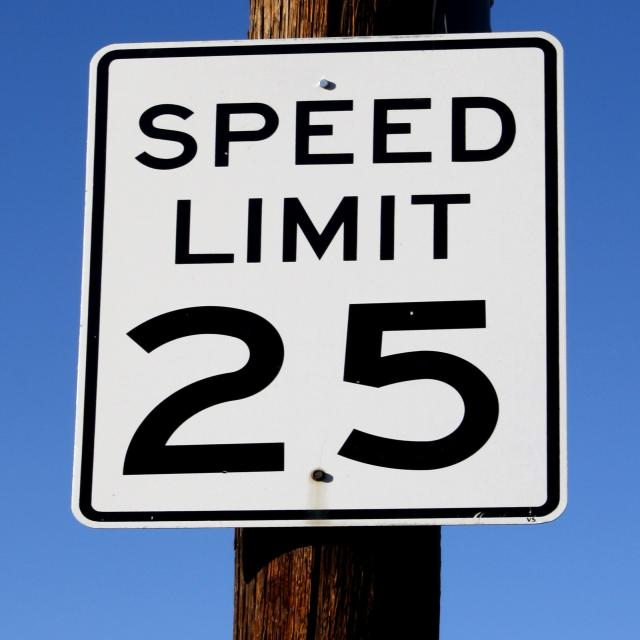speedLimit25: (79, 46, 576, 524)
